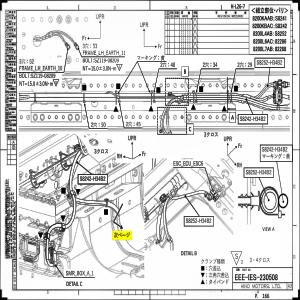PartNumber: (79, 175, 106, 182), (94, 57, 120, 64), (186, 217, 212, 224), (246, 169, 272, 176), (262, 146, 288, 153), (257, 59, 283, 66), (240, 116, 266, 122), (31, 73, 56, 79)
